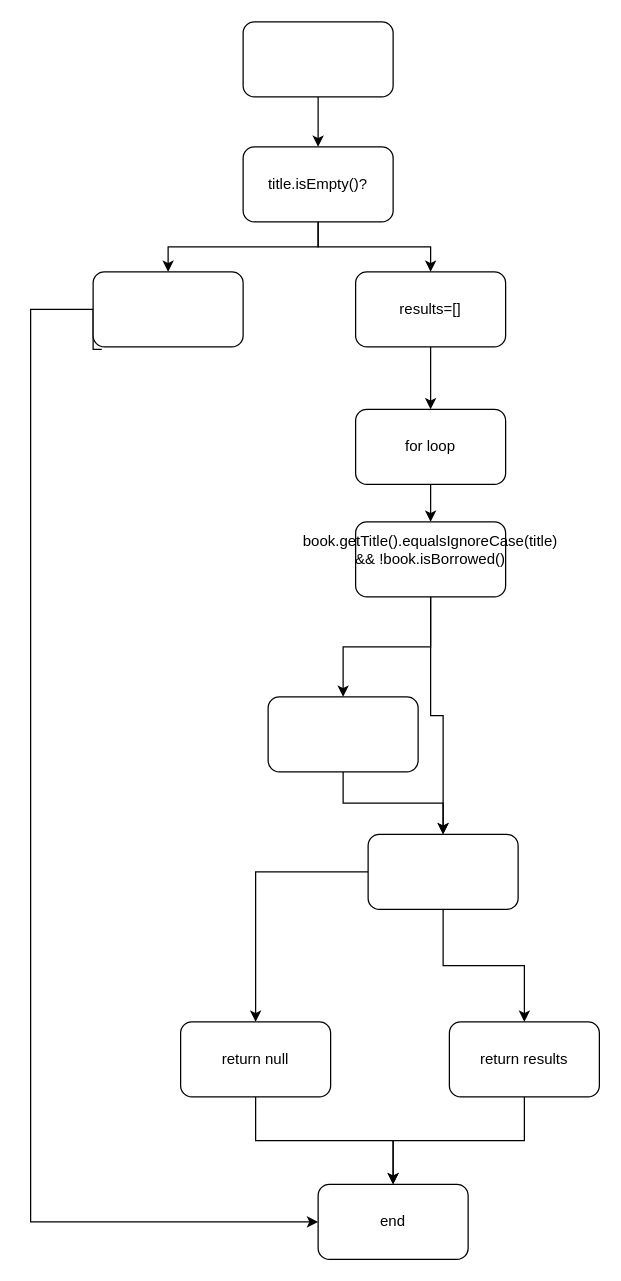
This 621x1281 diagram has some shape labels left out. The shapes that lost their labels are listed below. From the top down, each one's centre as x and y in pixels, then its label:
the point at 317,59: start
the point at 167,309: throw IllegalArgumentException
the point at 342,734: results.add(book)
the point at 442,871: results.isEmpty()?
